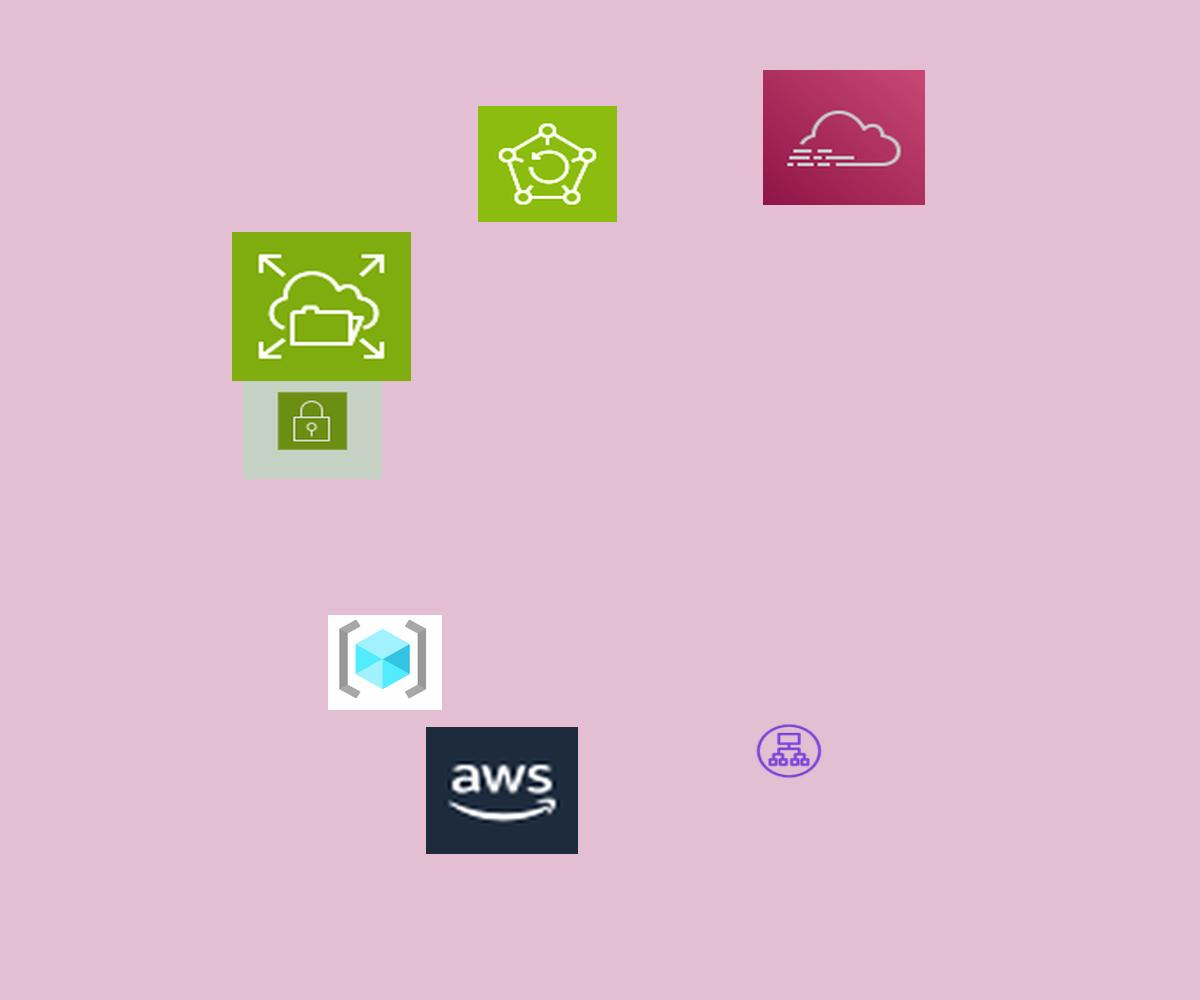AWS-Backup: (478, 106, 617, 222)
AWS-Cloud-logo: (426, 727, 578, 854)
AWS-CloudTrail: (763, 70, 925, 205)
AWS-EFS: (232, 232, 411, 381)
AWS-Public-subnet: (243, 363, 382, 479)
AWS-Res_Elastic-Load-Balancing_Application-Load-Balancer: (754, 722, 824, 780)
Azure_resource_group: (328, 615, 442, 710)
